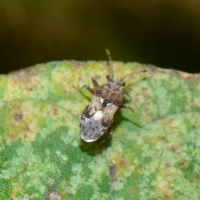insect: (80, 49, 125, 142)
